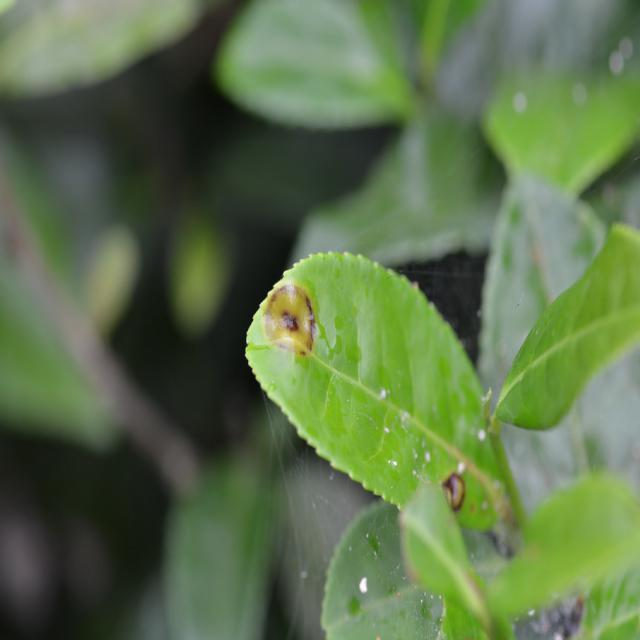Tea cake: (263, 283, 326, 362), (441, 468, 464, 517)
